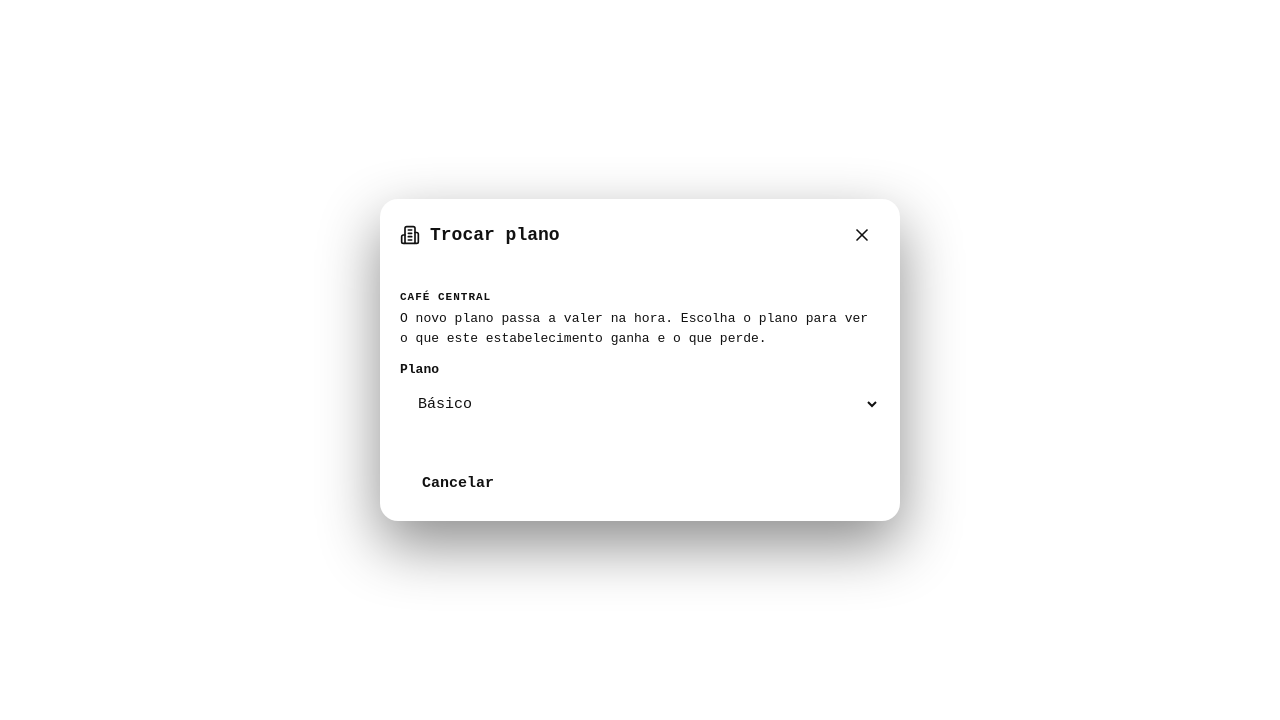
Scenario: AlterarPlanoModal, a troca de plano diz o que o cliente perde › upgrade só com ganho não pede confirmação, salva direto
This screenshot has width=1280, height=720.
Select "Avançado" in the dropdown: (640, 404) x1=400 y1=383 x2=880 y2=426
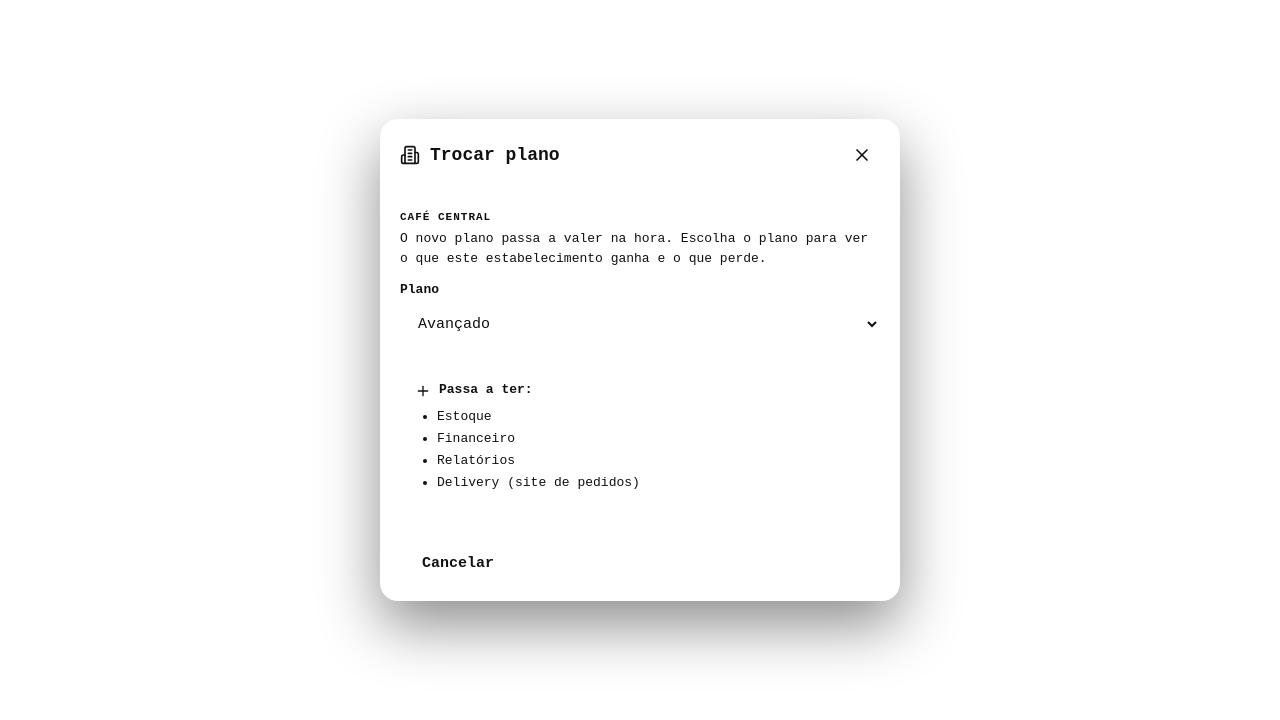
Check: the text "Passa a ter: Estoque Financeiro Relatórios Delivery (site de pedidos)" is shown, box x1=415 y1=382 x2=640 y2=490
